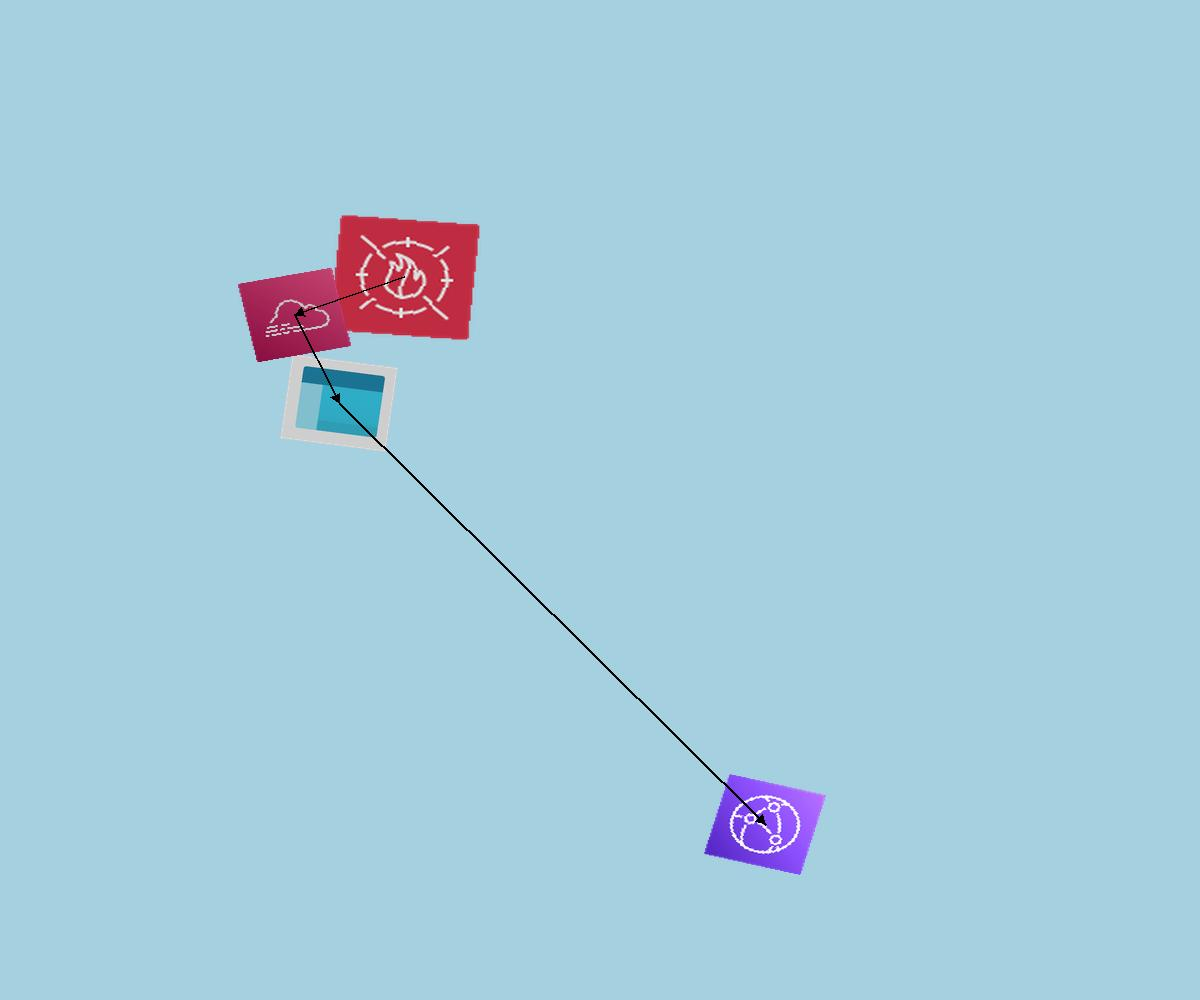AWS-CloudFront: (704, 774, 826, 875)
AWS-CloudTrail: (237, 267, 352, 363)
AWS-WAF: (328, 214, 481, 341)
Azure_management-portal: (280, 354, 398, 452)
